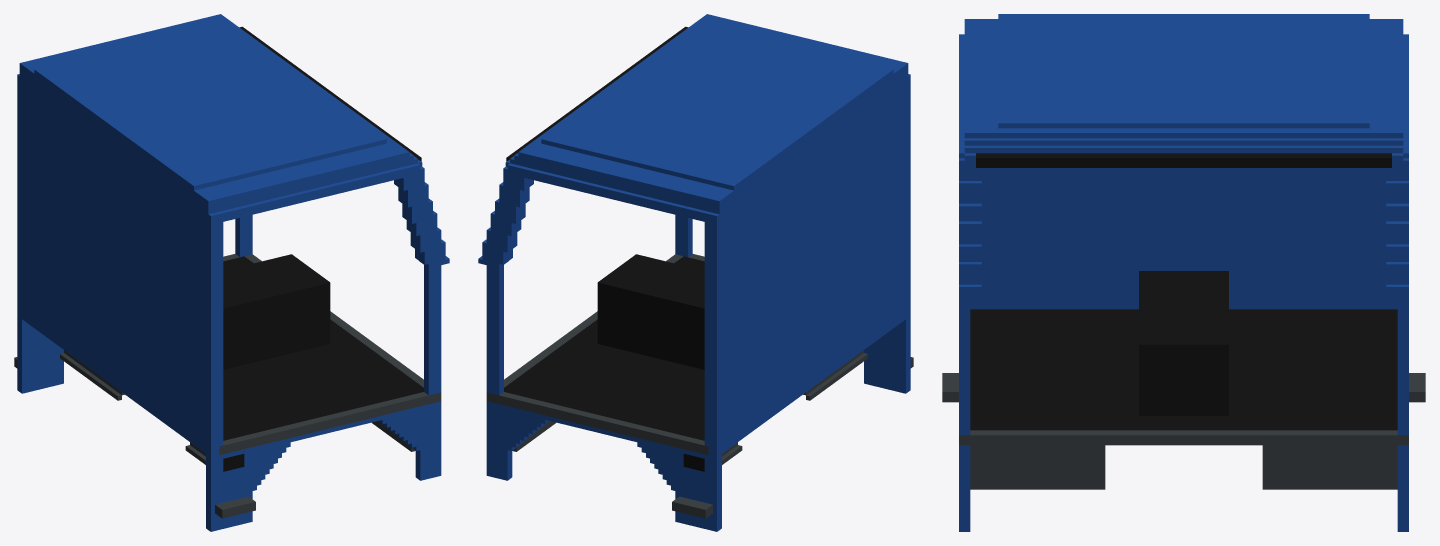
Rendered from flatbed_truck_cab.glb.
The picture shows the model from 3 angles, left to right: view 1: azimuth 30°, elevation 25°; view 2: azimuth 150°, elevation 25°; view 3: azimuth 270°, elevation 25°; orthographic projection. The views are drawn at different scales.
Parts seen in each view (by area): view 1: body:compound; view 2: body:compound; view 3: body:compound.
Boxes of the visible parts, box(x1,y1,x2,y2) form: body:compound: box(14, 14, 449, 531); body:compound: box(478, 14, 913, 531); body:compound: box(942, 14, 1425, 531).
Size of the model in its own units: 1.78 by 2.38 by 2.69.
